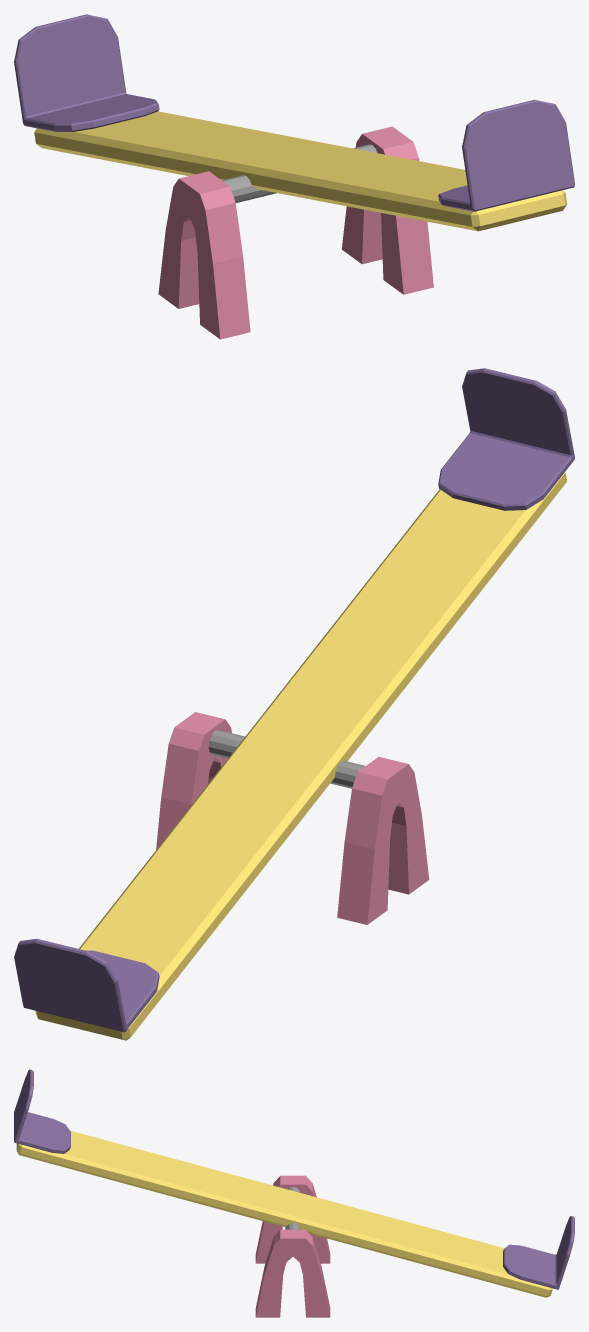
File: Isl_9_Children_swing_1.fbx
The picture shows the model from 3 angles, top to bottom: view 1: azimuth 30°, elevation 25°; view 2: azimuth 150°, elevation 25°; view 3: azimuth 270°, elevation 25°; orthographic projection. The views are drawn at different scales.
Parts seen in each view (by area): view 1: Isl_9_Children_swing_1; view 2: Isl_9_Children_swing_1; view 3: Isl_9_Children_swing_1.
Part boxes in pixels (x1,y1,x2,y2): Isl_9_Children_swing_1: [14, 14, 574, 339]; Isl_9_Children_swing_1: [14, 368, 574, 1040]; Isl_9_Children_swing_1: [14, 1069, 574, 1317].
Bounding box in the file's own units: 105 × 397 × 162.
Materials: 1 (1 with a texture image).
